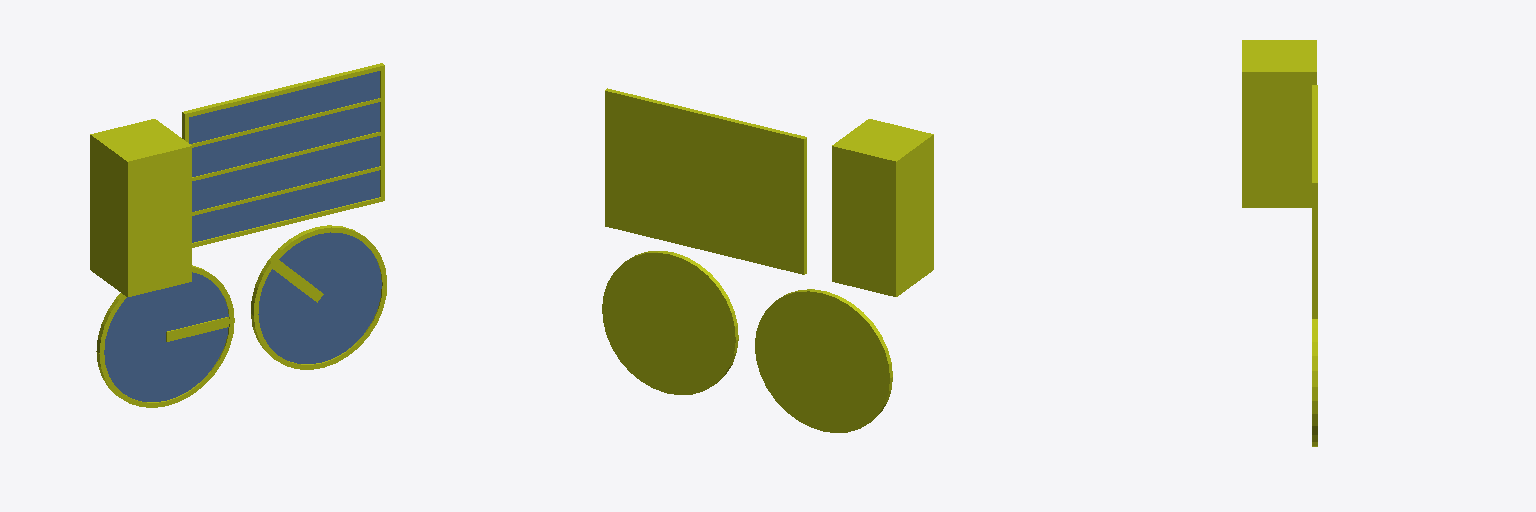
The model's file is etapAmarillo.obj.
The picture shows the model from 3 angles: view 1: azimuth 30°, elevation 25°; view 2: azimuth 150°, elevation 25°; view 3: azimuth 270°, elevation 25°; orthographic projection.
Parts seen in each view (by area): view 1: Cube.002, Cube, Cylinder.002, Cylinder.001, Cube.001, Cylinder.003, Cylinder, Cube.004, Cube.003, Cube.005, Cube.006, Cube.007; view 2: Cube.001, Cube, Cylinder, Cylinder.003; view 3: Cube, Cube.001, Cylinder.003.
Boxes of the visible parts, x1=… form: Cube.002: x1=189, y1=71, x2=379, y2=242; Cube: x1=90, y1=119, x2=191, y2=296; Cylinder.002: x1=258, y1=232, x2=381, y2=363; Cylinder.001: x1=104, y1=272, x2=228, y2=401; Cube.001: x1=182, y1=63, x2=384, y2=247; Cylinder.003: x1=251, y1=225, x2=386, y2=369; Cylinder: x1=96, y1=265, x2=234, y2=407; Cube.004: x1=192, y1=132, x2=380, y2=180; Cube.003: x1=190, y1=98, x2=380, y2=147; Cube.005: x1=192, y1=166, x2=380, y2=215; Cube.006: x1=166, y1=317, x2=229, y2=341; Cube.007: x1=273, y1=260, x2=323, y2=302; Cube.001: x1=605, y1=88, x2=806, y2=274; Cube: x1=832, y1=119, x2=933, y2=296; Cylinder: x1=755, y1=289, x2=892, y2=432; Cylinder.003: x1=602, y1=251, x2=738, y2=394; Cube: x1=1242, y1=40, x2=1316, y2=207; Cube.001: x1=1312, y1=85, x2=1317, y2=318; Cylinder.003: x1=1312, y1=319, x2=1317, y2=446.
Size of the model in its own units: 9.08 by 8.48 by 2.01.